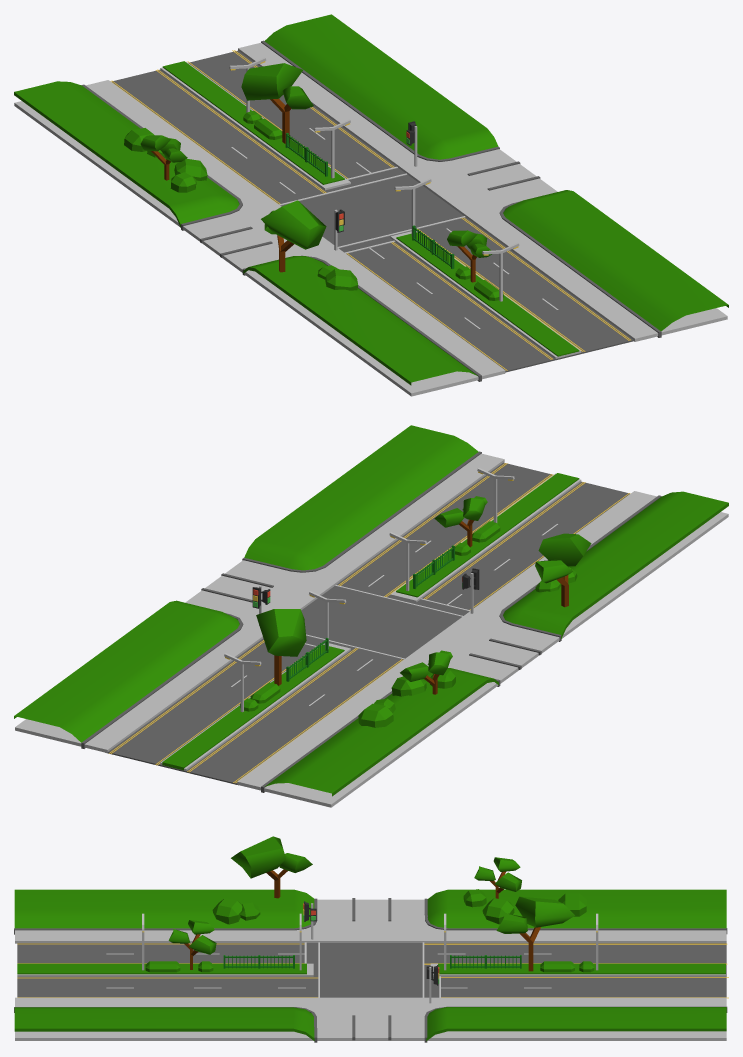
The model's file is L2 Street.fbx.
3 renders of one model, top to bottom at view 1: azimuth 30°, elevation 25°; view 2: azimuth 150°, elevation 25°; view 3: azimuth 270°, elevation 25°, orthographic. The views are drawn at different scales.
Visible parts, largest first — view 1: pCube7219, pCube7244, pCube7242, pCube7222, pCube7220, pCube7238, pCube7203, pCube7196, pCube7212, pCube7246, pCube7229, pCube7249 (+5 smaller); view 2: pCube7219, pCube7244, pCube7242, pCube7220, pCube7222, pCube7238, pCube7203, pCube7212, pCube7196, pCube7246, pCube7229, pCube7218 (+7 smaller); view 3: pCube7219, pCube7242, pCube7244, pCube7238, pCube7203, pCube7220, pCube7222, pCube7196, pCube7212, pCube7246, pCube7229, pCube7233 (+13 smaller).
Part boxes in pixels (x1,y1,x2,y2): pCube7219: [111, 50, 633, 372]; pCube7244: [14, 80, 505, 396]; pCube7242: [238, 42, 727, 341]; pCube7222: [264, 14, 498, 159]; pCube7220: [503, 190, 728, 331]; pCube7238: [243, 256, 477, 385]; pCube7203: [14, 81, 239, 227]; pCube7196: [396, 232, 579, 356]; pCube7212: [162, 61, 344, 184]; pCube7246: [241, 63, 313, 143]; pCube7229: [261, 200, 326, 272]; pCube7249: [160, 61, 350, 190]; pCube7219: [105, 462, 629, 785]; pCube7244: [237, 491, 728, 807]; pCube7242: [15, 453, 504, 752]; pCube7220: [244, 425, 478, 570]; pCube7222: [14, 600, 239, 742]; pCube7238: [503, 491, 728, 639]; pCube7203: [264, 668, 498, 796]; pCube7212: [162, 645, 344, 770]; pCube7196: [396, 473, 579, 597]; pCube7246: [256, 609, 306, 685]; pCube7229: [535, 533, 591, 607]; pCube7218: [390, 473, 581, 602]; pCube7219: [17, 943, 726, 997]; pCube7242: [15, 997, 726, 1040]; pCube7244: [15, 899, 726, 943]; pCube7238: [14, 889, 314, 928]; pCube7203: [427, 889, 726, 928]; pCube7220: [14, 1007, 314, 1040]; pCube7222: [426, 1007, 726, 1040]; pCube7196: [17, 963, 306, 974]; pCube7212: [438, 963, 725, 974]; pCube7246: [496, 896, 574, 971]; pCube7229: [231, 836, 312, 898]; pCube7233: [168, 920, 216, 969].
Size of the model in its own units: 12.37 by 3.04 by 26.67.
1 material, 1 textured.
